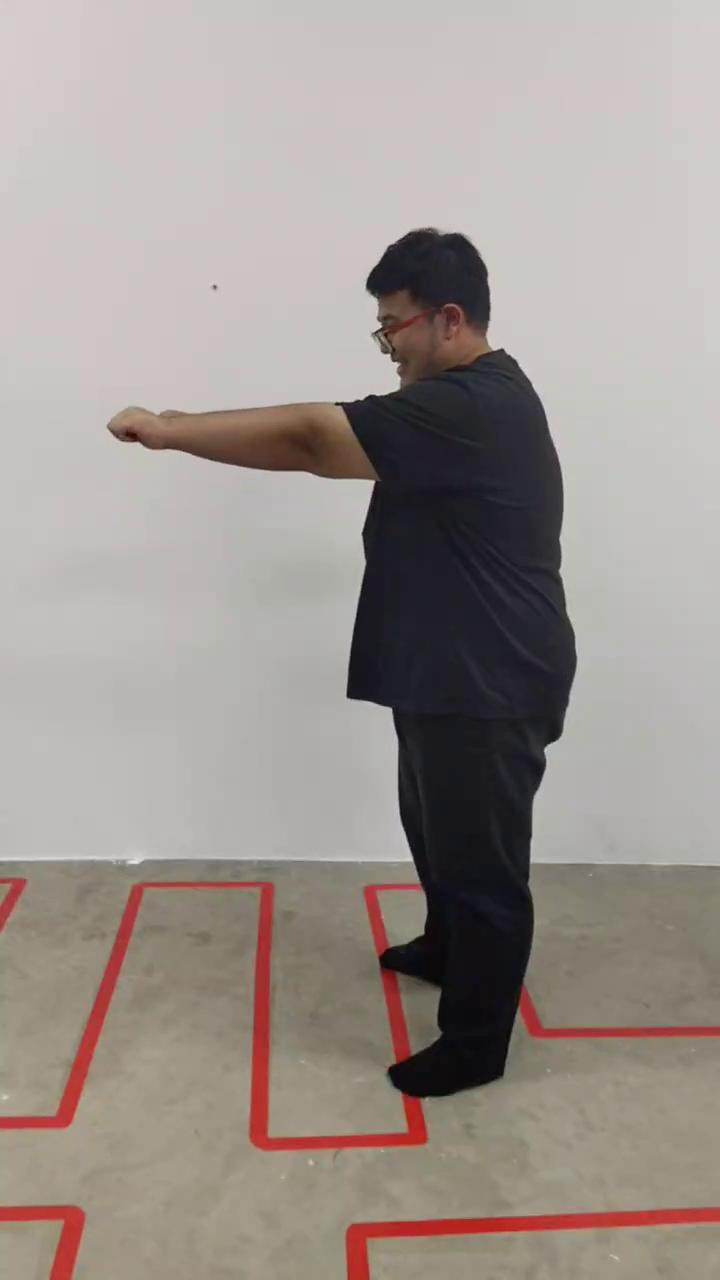squat up: (111, 229, 577, 1101)
